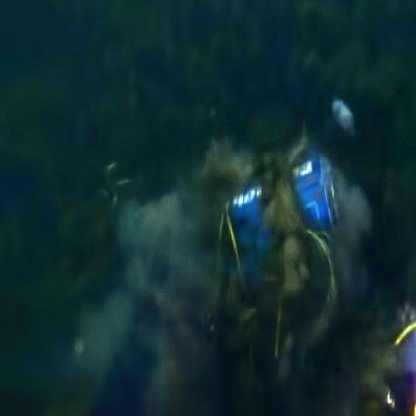can: (237, 117, 345, 255)
